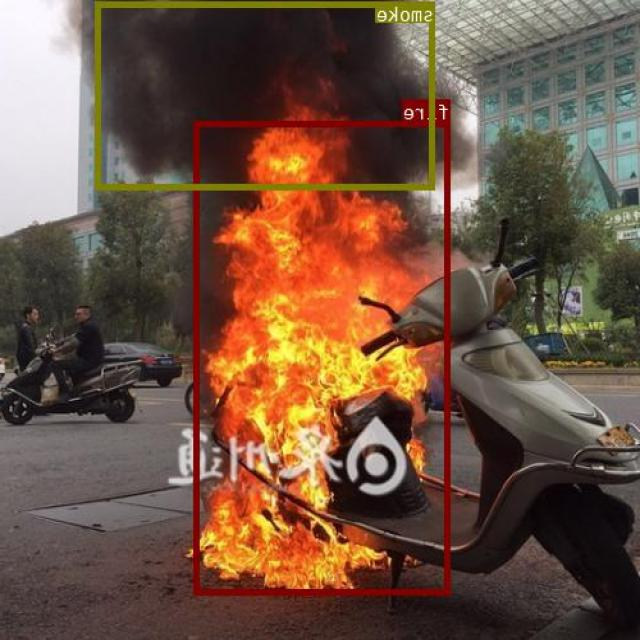fire: (195, 120, 452, 594)
smoke: (97, 1, 436, 188)
